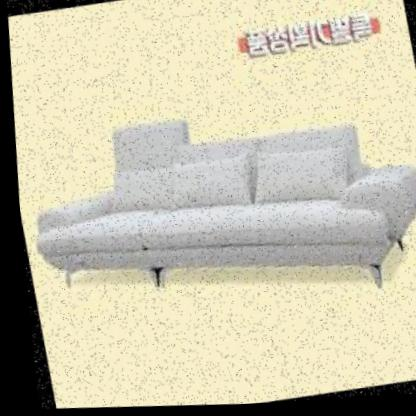Sofa: (6, 59, 416, 366)
